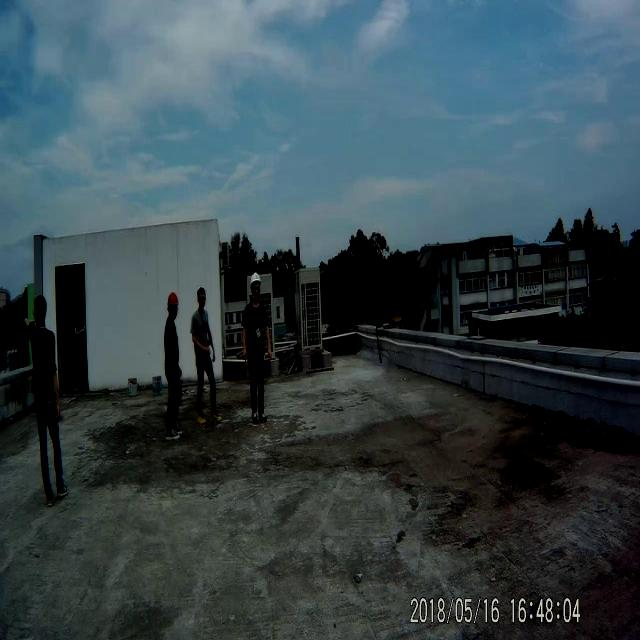hand_noglove: (55, 398, 62, 422), (265, 344, 273, 360), (241, 340, 247, 360), (211, 348, 217, 364), (204, 344, 210, 356)
head_helmet: (166, 290, 180, 308), (251, 272, 261, 287)
head_nohelmet: (32, 288, 48, 313), (197, 284, 207, 300)
person: (26, 296, 68, 497), (244, 266, 274, 426), (190, 286, 215, 425), (162, 289, 185, 437)
shoes: (43, 486, 57, 508), (256, 408, 268, 428), (55, 482, 69, 499), (164, 428, 180, 442), (171, 419, 183, 435), (210, 410, 222, 424), (250, 407, 258, 425)
